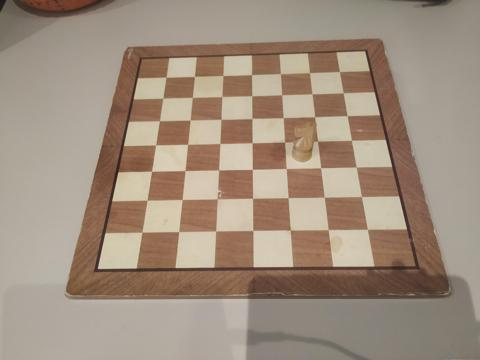xcorner: (137, 229, 147, 239), (174, 228, 184, 238), (249, 227, 259, 237), (287, 226, 297, 236), (326, 226, 336, 236), (365, 225, 375, 235), (142, 197, 152, 207), (177, 196, 187, 206), (212, 196, 222, 206), (248, 195, 258, 205), (285, 194, 295, 204), (322, 193, 332, 203), (359, 193, 369, 203), (146, 168, 156, 178), (179, 167, 189, 177), (213, 166, 223, 176), (248, 165, 258, 175), (283, 165, 293, 175), (318, 164, 328, 174), (353, 163, 363, 173), (182, 141, 192, 151), (214, 140, 224, 150), (247, 139, 257, 149), (281, 138, 291, 148), (314, 137, 324, 147), (348, 136, 358, 146), (153, 117, 163, 127), (184, 116, 194, 126), (215, 115, 225, 125), (247, 114, 257, 124), (279, 113, 289, 123), (311, 112, 321, 122), (344, 111, 354, 121), (156, 94, 166, 104), (186, 93, 196, 103), (216, 92, 226, 102), (277, 90, 287, 100), (308, 89, 318, 99), (340, 88, 350, 98), (159, 74, 169, 84), (188, 72, 198, 82), (217, 71, 227, 81), (246, 70, 256, 80), (276, 69, 286, 79), (306, 68, 316, 78), (336, 66, 346, 76), (211, 228, 221, 237), (150, 141, 159, 151), (247, 91, 256, 101)
